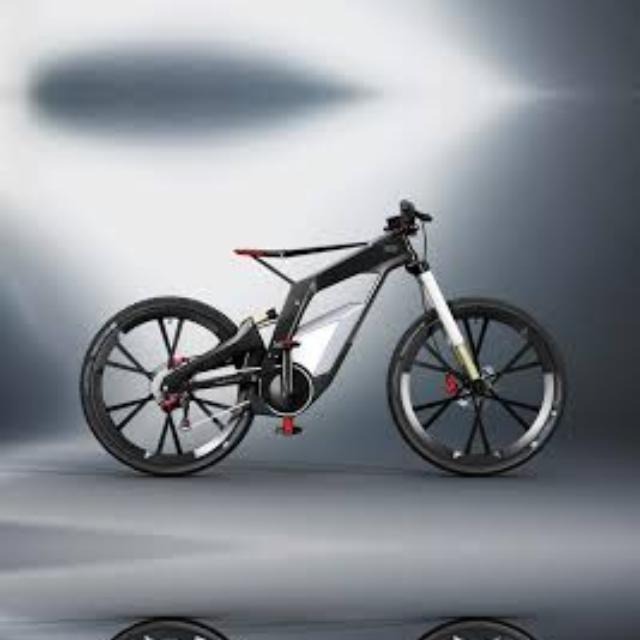obstacle: (62, 172, 594, 496), (62, 595, 594, 640), (62, 0, 594, 14)
